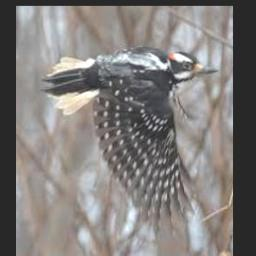Woodpecker: (42, 45, 218, 232)
